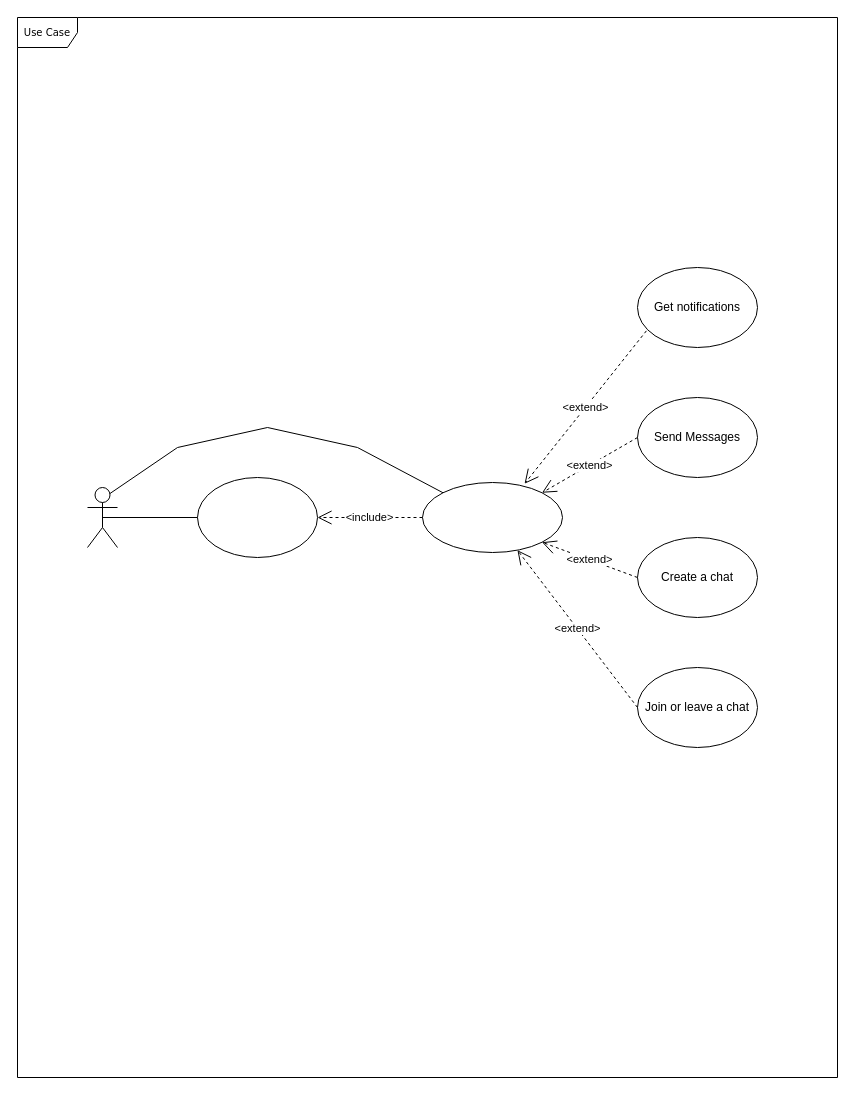
Some shapes in this 855 by 1095 pixel diagram are drawn without their labels. Each missing label, with the centre of its shape:
"Authorization" belongs at pixel 257 517.
"Communicate" belongs at pixel 492 517.
"User" belongs at pixel 102 517.
